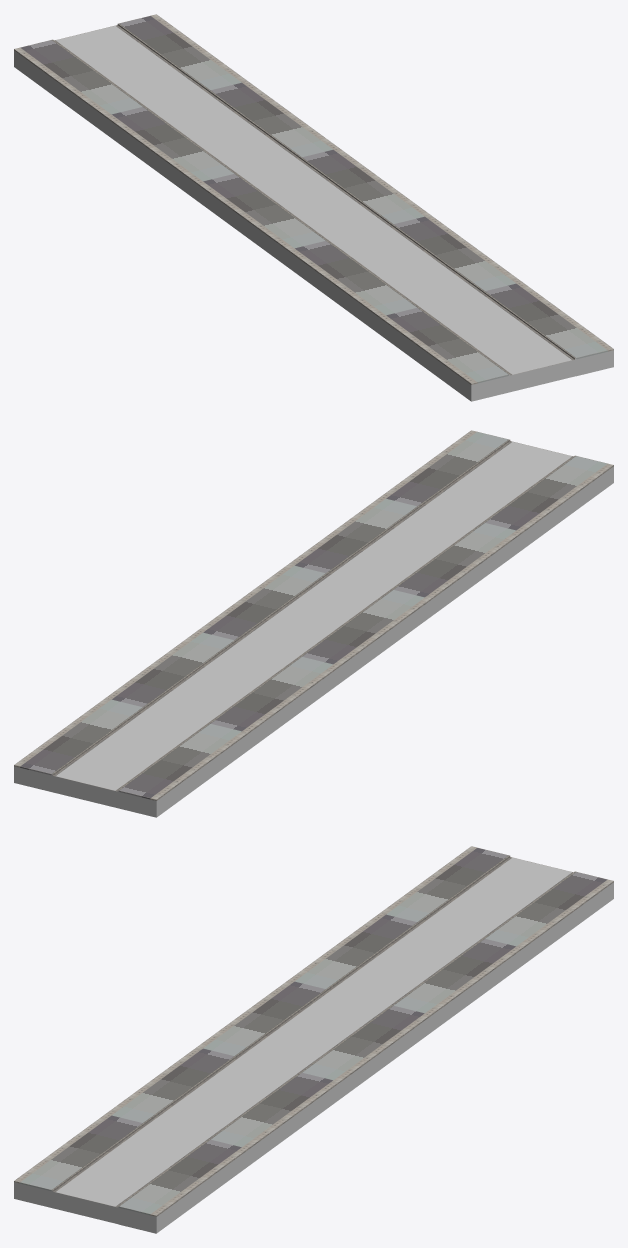
File: Road_02a_st.fbx
The picture shows the model from 3 angles, top to bottom: view 1: azimuth 30°, elevation 25°; view 2: azimuth 150°, elevation 25°; view 3: azimuth 330°, elevation 25°; orthographic projection.
Visible parts, largest first — view 1: Road_02a_st; view 2: Road_02a_st; view 3: Road_02a_st.
Boxes of the visible parts, box(x1,y1,x2,y2) form: Road_02a_st: box(14, 14, 613, 401); Road_02a_st: box(14, 430, 613, 817); Road_02a_st: box(14, 846, 613, 1233).
Bounding box in the file's own units: 18 × 2.18 × 100.
